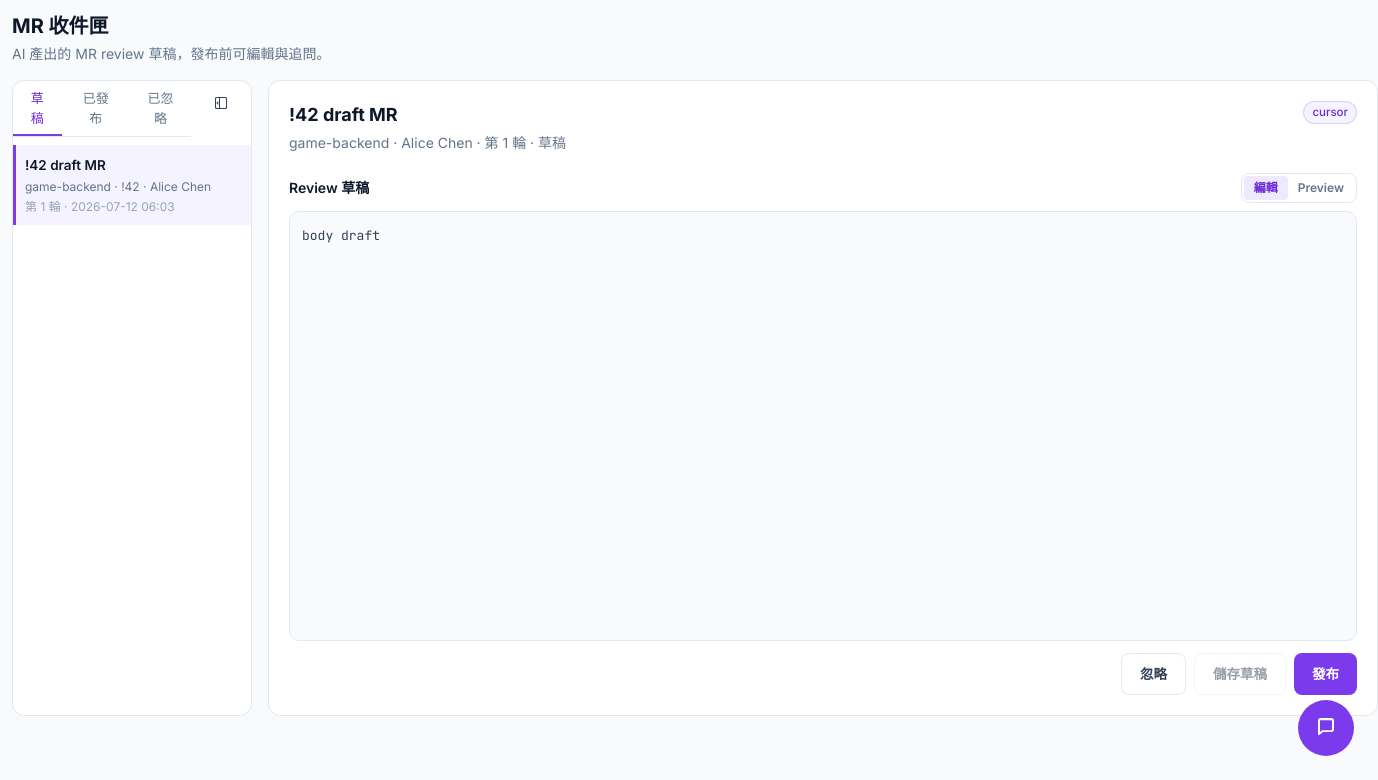
Test: MrInboxPage › adopts agent draft and shows new-version marker when editor is clean
The image size is (1378, 780).
Click the button named "展開 Agent Chat": (1326, 728) [1298,700,1354,756]
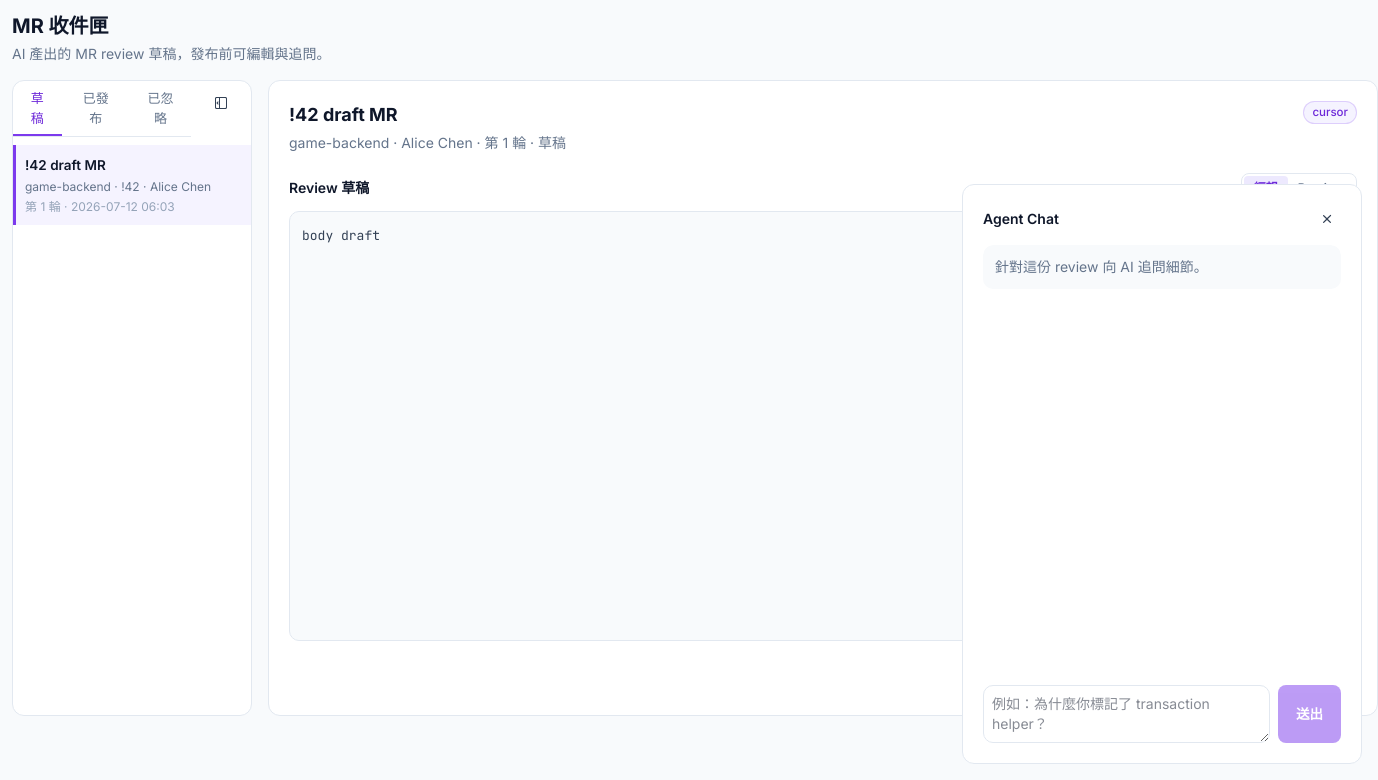
In the text box with placeholder "例如：為什麼你標記了 transaction helper？": (1126, 714) [983,685,1270,743], type "please revise"
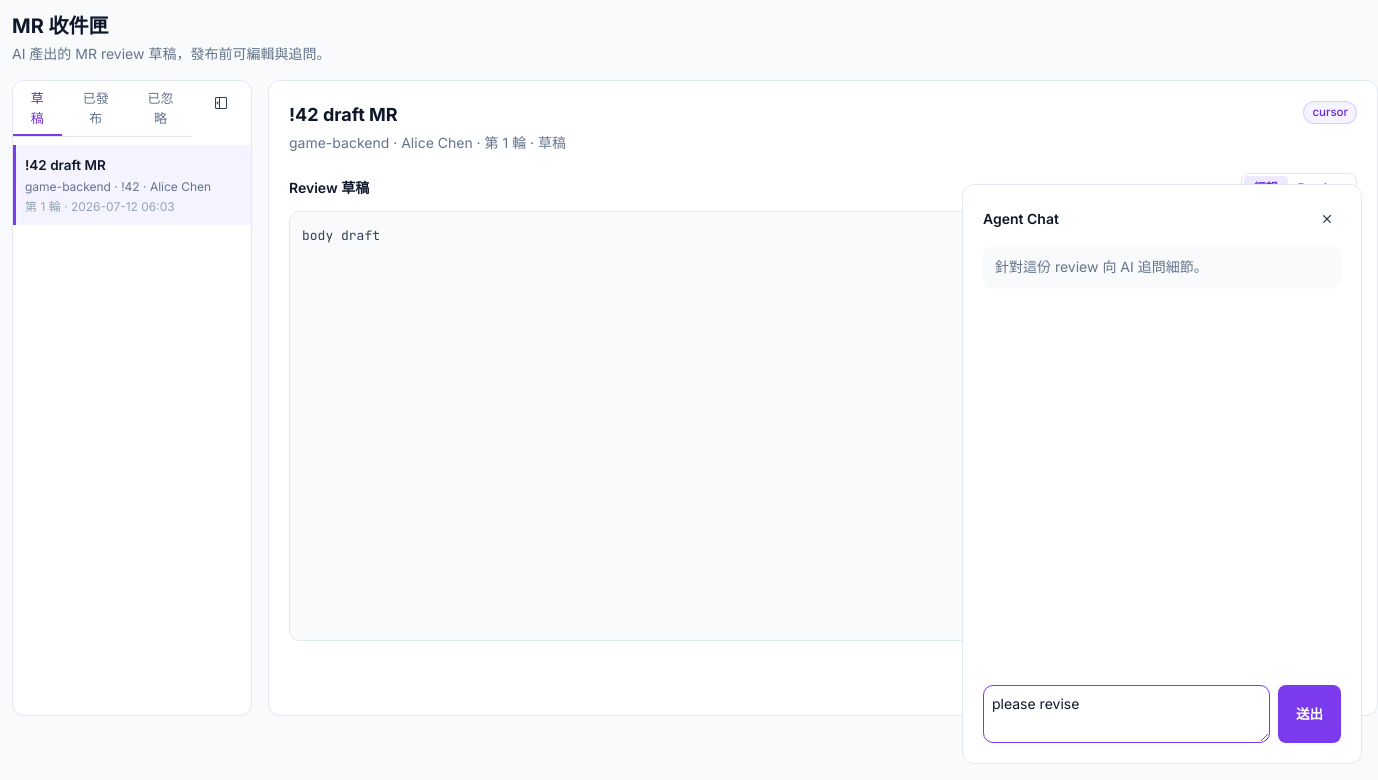
Click the button "送出": (1310, 714) [1278,685,1341,743]
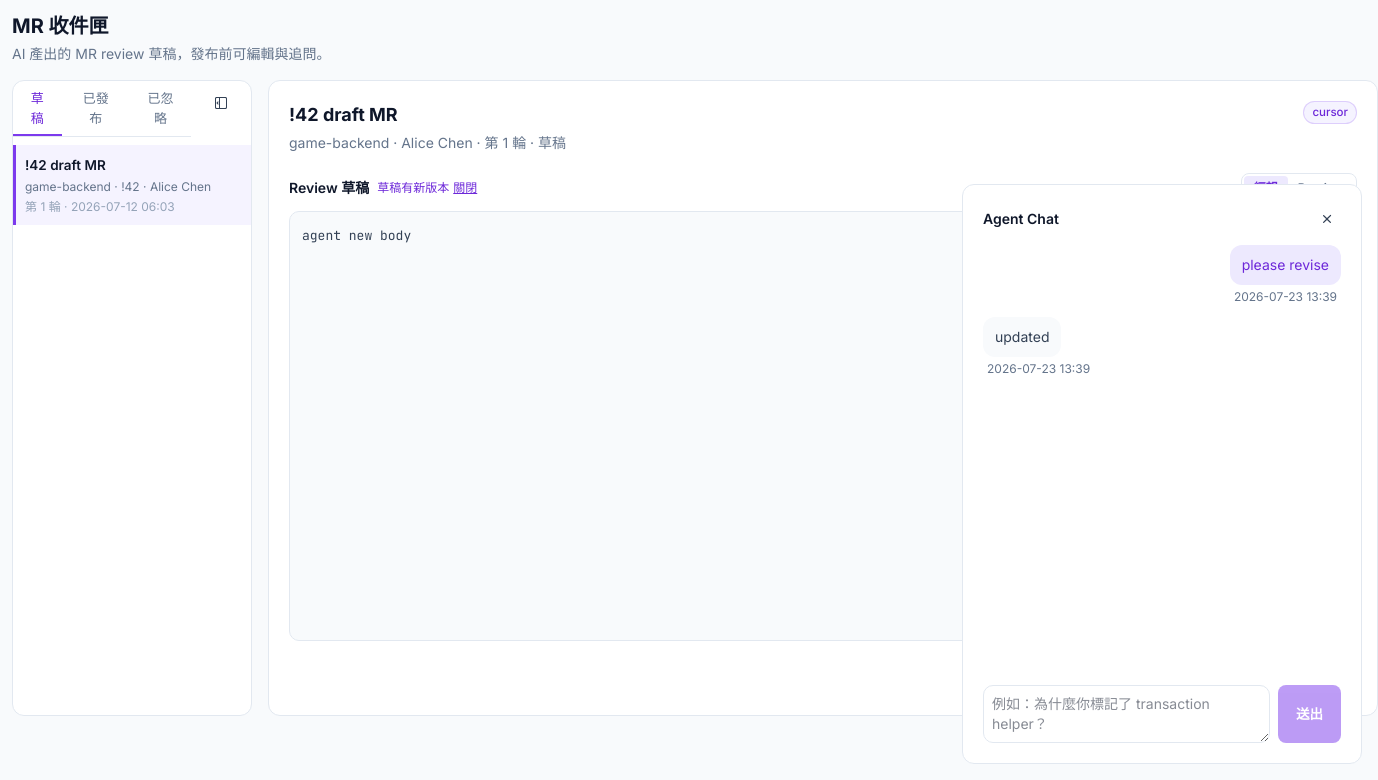
Result: the text "草稿有新版本" is shown at [377,180,449,195]
Result: the text box labelled "Review 草稿" holds "agent new body" at [289,211,1357,641]
